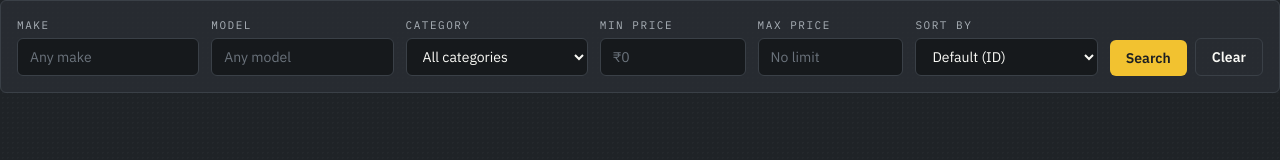
Scenario: SearchFilters › clears all fields and notifies the parent
Step 1. Type "Ford" into the field labelled "Make" → (108,56), box x1=17 y1=38 x2=199 y2=76
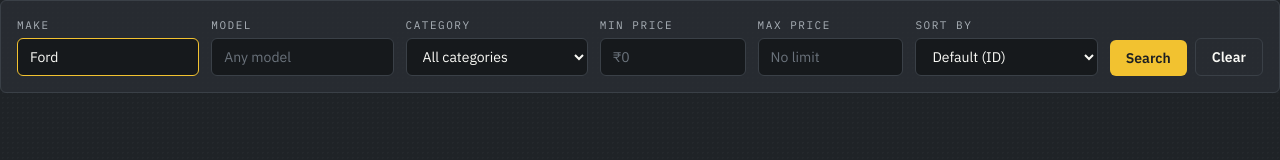
Step 2. Click the button "Clear" → (1229,56), box x1=1195 y1=38 x2=1263 y2=76
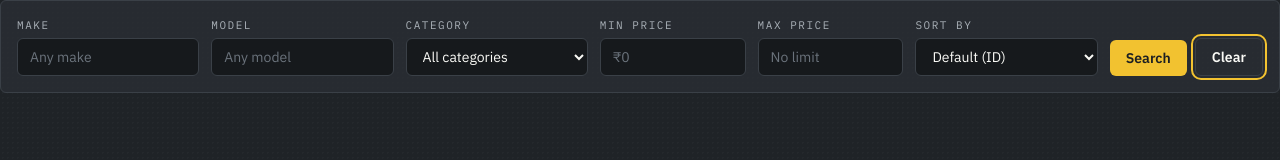
Expected: the field labelled "Make" is empty, x1=17 y1=38 x2=199 y2=76
